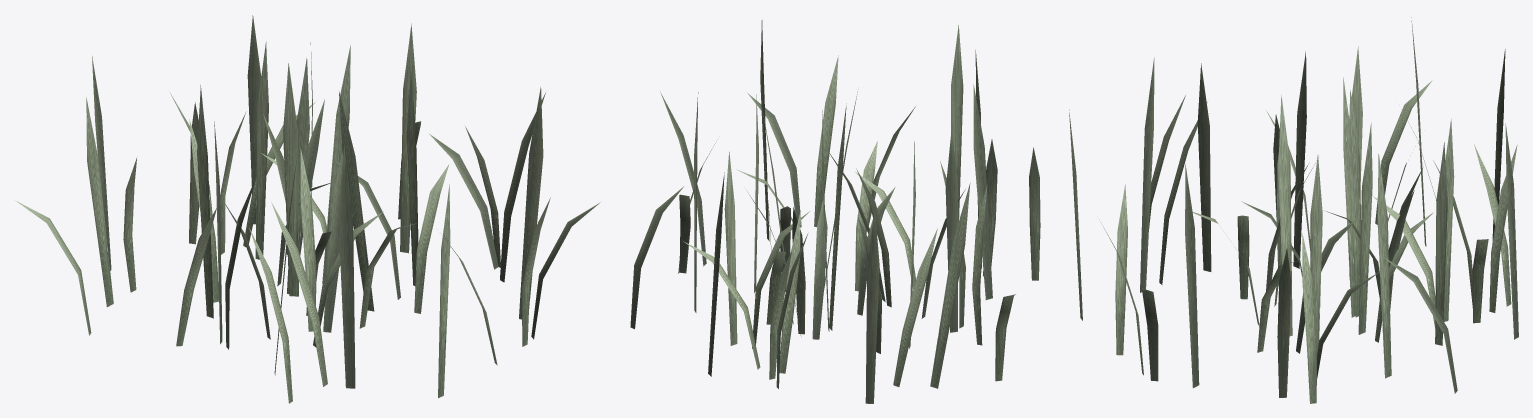
The model's file is Grass - Grass2 2-CEEEOKYu.glb.
3 views of the same model, side by side, from view 1: azimuth 30°, elevation 25°; view 2: azimuth 150°, elevation 25°; view 3: azimuth 270°, elevation 25° (orthographic). The views are drawn at different scales.
Parts seen in each view (by area): view 1: Grass2_2_LOD0; view 2: Grass2_2_LOD0; view 3: Grass2_2_LOD0.
Part boxes in pixels (box(x1,y1,x2,y2)): Grass2_2_LOD0: box(15, 15, 600, 403); Grass2_2_LOD0: box(630, 20, 1040, 403); Grass2_2_LOD0: box(1069, 17, 1518, 403).
Size of the model in its own units: 0.9503 by 0.4809 by 0.8302.
Materials: 1 (1 with a texture image).
